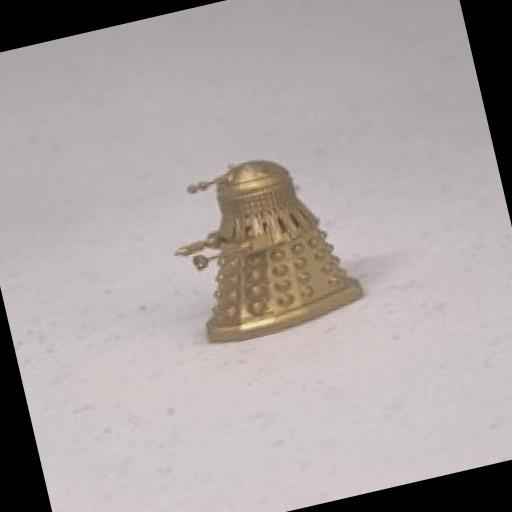dalek: (156, 142, 371, 352)
